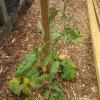Tomato leaf: (13, 51, 38, 77), (49, 58, 59, 76), (72, 33, 88, 44)
